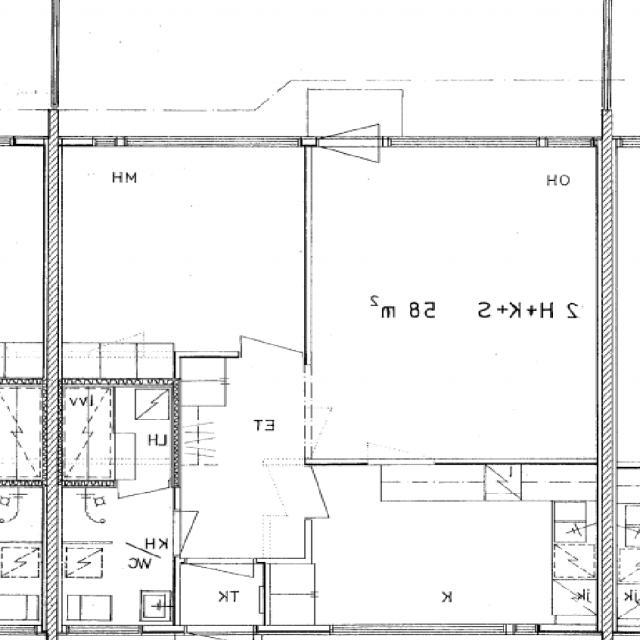door: (185, 557, 256, 619), (318, 135, 380, 197), (318, 84, 380, 146), (306, 466, 376, 517), (242, 302, 303, 356), (174, 509, 236, 554), (119, 479, 170, 528)
